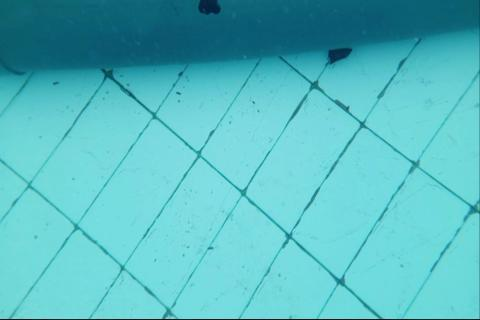kebocoran: (197, 0, 221, 16)
